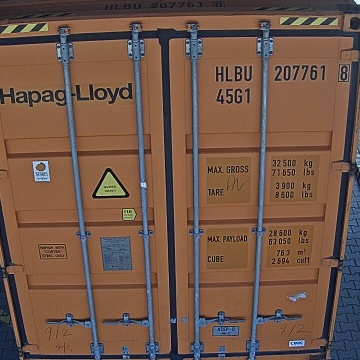serial_id: (216, 64, 349, 81)
